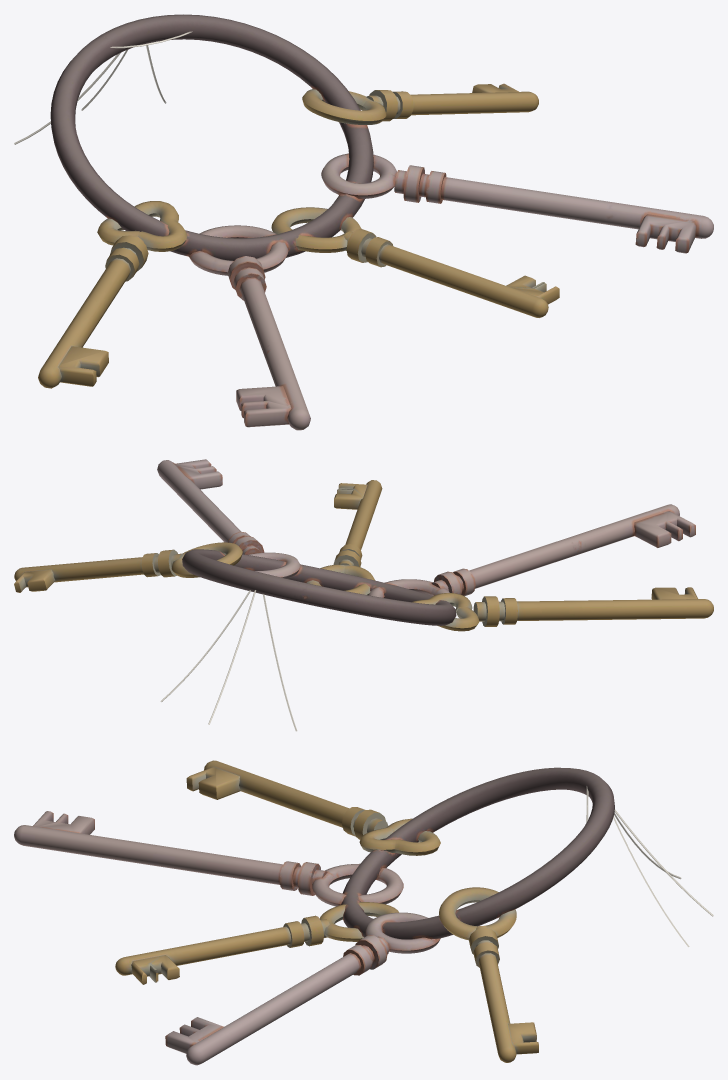
Rendered from old-key-ring.glb.
3 renders of one model, top to bottom at view 1: azimuth 30°, elevation 25°; view 2: azimuth 150°, elevation 25°; view 3: azimuth 270°, elevation 25°, orthographic. The views are drawn at different scales.
Visible parts, largest first — view 1: old-key-ring_body, old-key-ring_web; view 2: old-key-ring_body, old-key-ring_web; view 3: old-key-ring_body, old-key-ring_web.
Boxes of the visible parts, x1,y1,x2,y2 form: old-key-ring_body: (38, 14, 713, 430); old-key-ring_web: (14, 31, 192, 144); old-key-ring_body: (14, 459, 713, 631); old-key-ring_web: (160, 590, 297, 731); old-key-ring_body: (14, 760, 614, 1065); old-key-ring_web: (586, 786, 713, 946).
Bounding box in the file's own units: 0.1707 × 0.0339 × 0.1725.
Materials: 2 (1 with a texture image).
